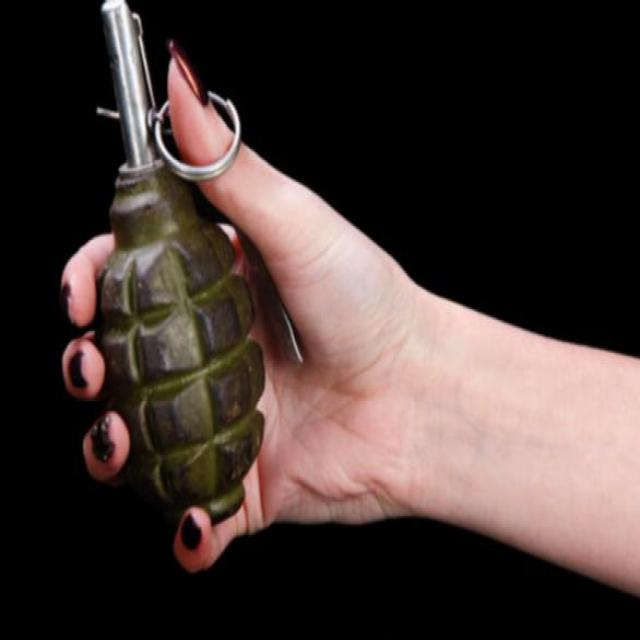grenade: (92, 1, 304, 526)
